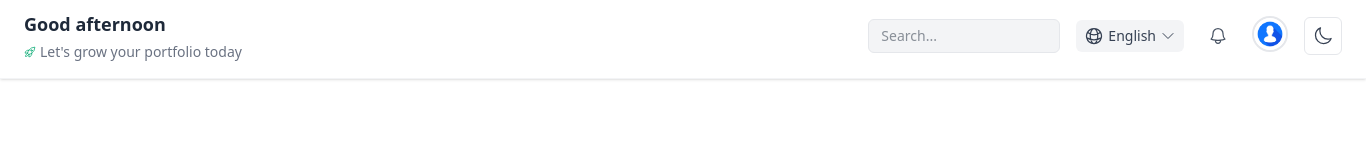
Test case: Topbar › opens and closes the notifications dropdown via the bell button
Expected: the text "No new notifications." is not shown
Click the 2nd button at (1218, 36), box [1200,18,1236,54]
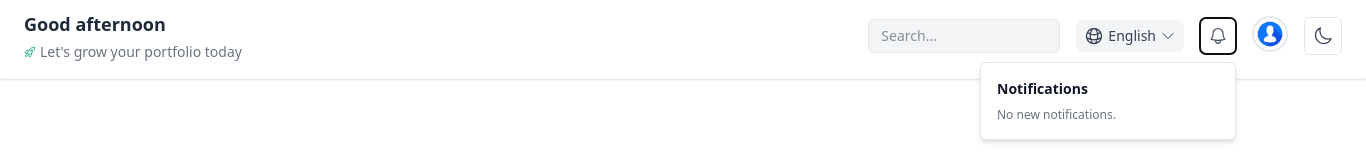
Result: the text "Notifications" is shown at [997,79,1088,98]
Result: the text "No new notifications." is shown at [997,106,1116,123]
Click the 2nd button at (1218, 36), box [1200,18,1236,54]
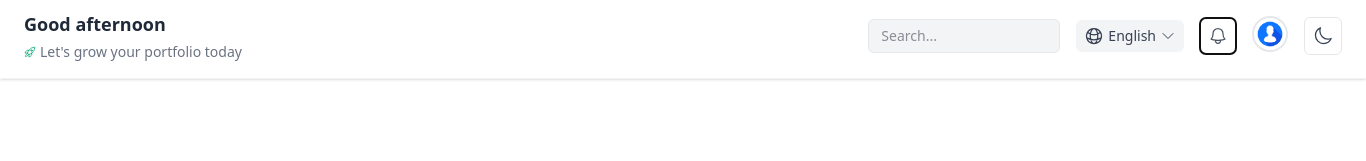
Result: the text "No new notifications." is gone
